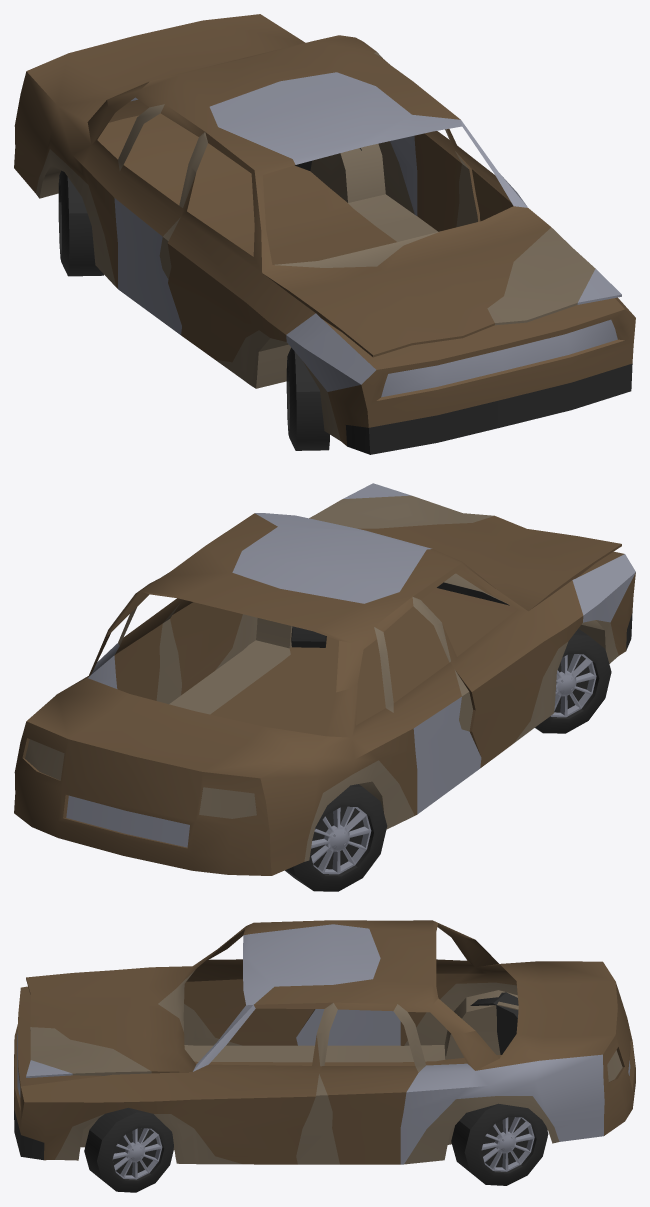
The model's file is quaternius-toon-shooter-game-debris-brokencar.glb.
3 views of the same model, one above another, from view 1: azimuth 30°, elevation 25°; view 2: azimuth 150°, elevation 25°; view 3: azimuth 270°, elevation 25° (orthographic). The views are drawn at different scales.
Visible parts, largest first — view 1: Debris_BrokenCar; view 2: Debris_BrokenCar; view 3: Debris_BrokenCar.
Boxes of the visible parts, <box> form: Debris_BrokenCar: <box>14,14,635,454</box>; Debris_BrokenCar: <box>14,483,635,891</box>; Debris_BrokenCar: <box>14,920,635,1192</box>.
Bounding box in the file's own units: 2.64 × 1.76 × 5.49.
